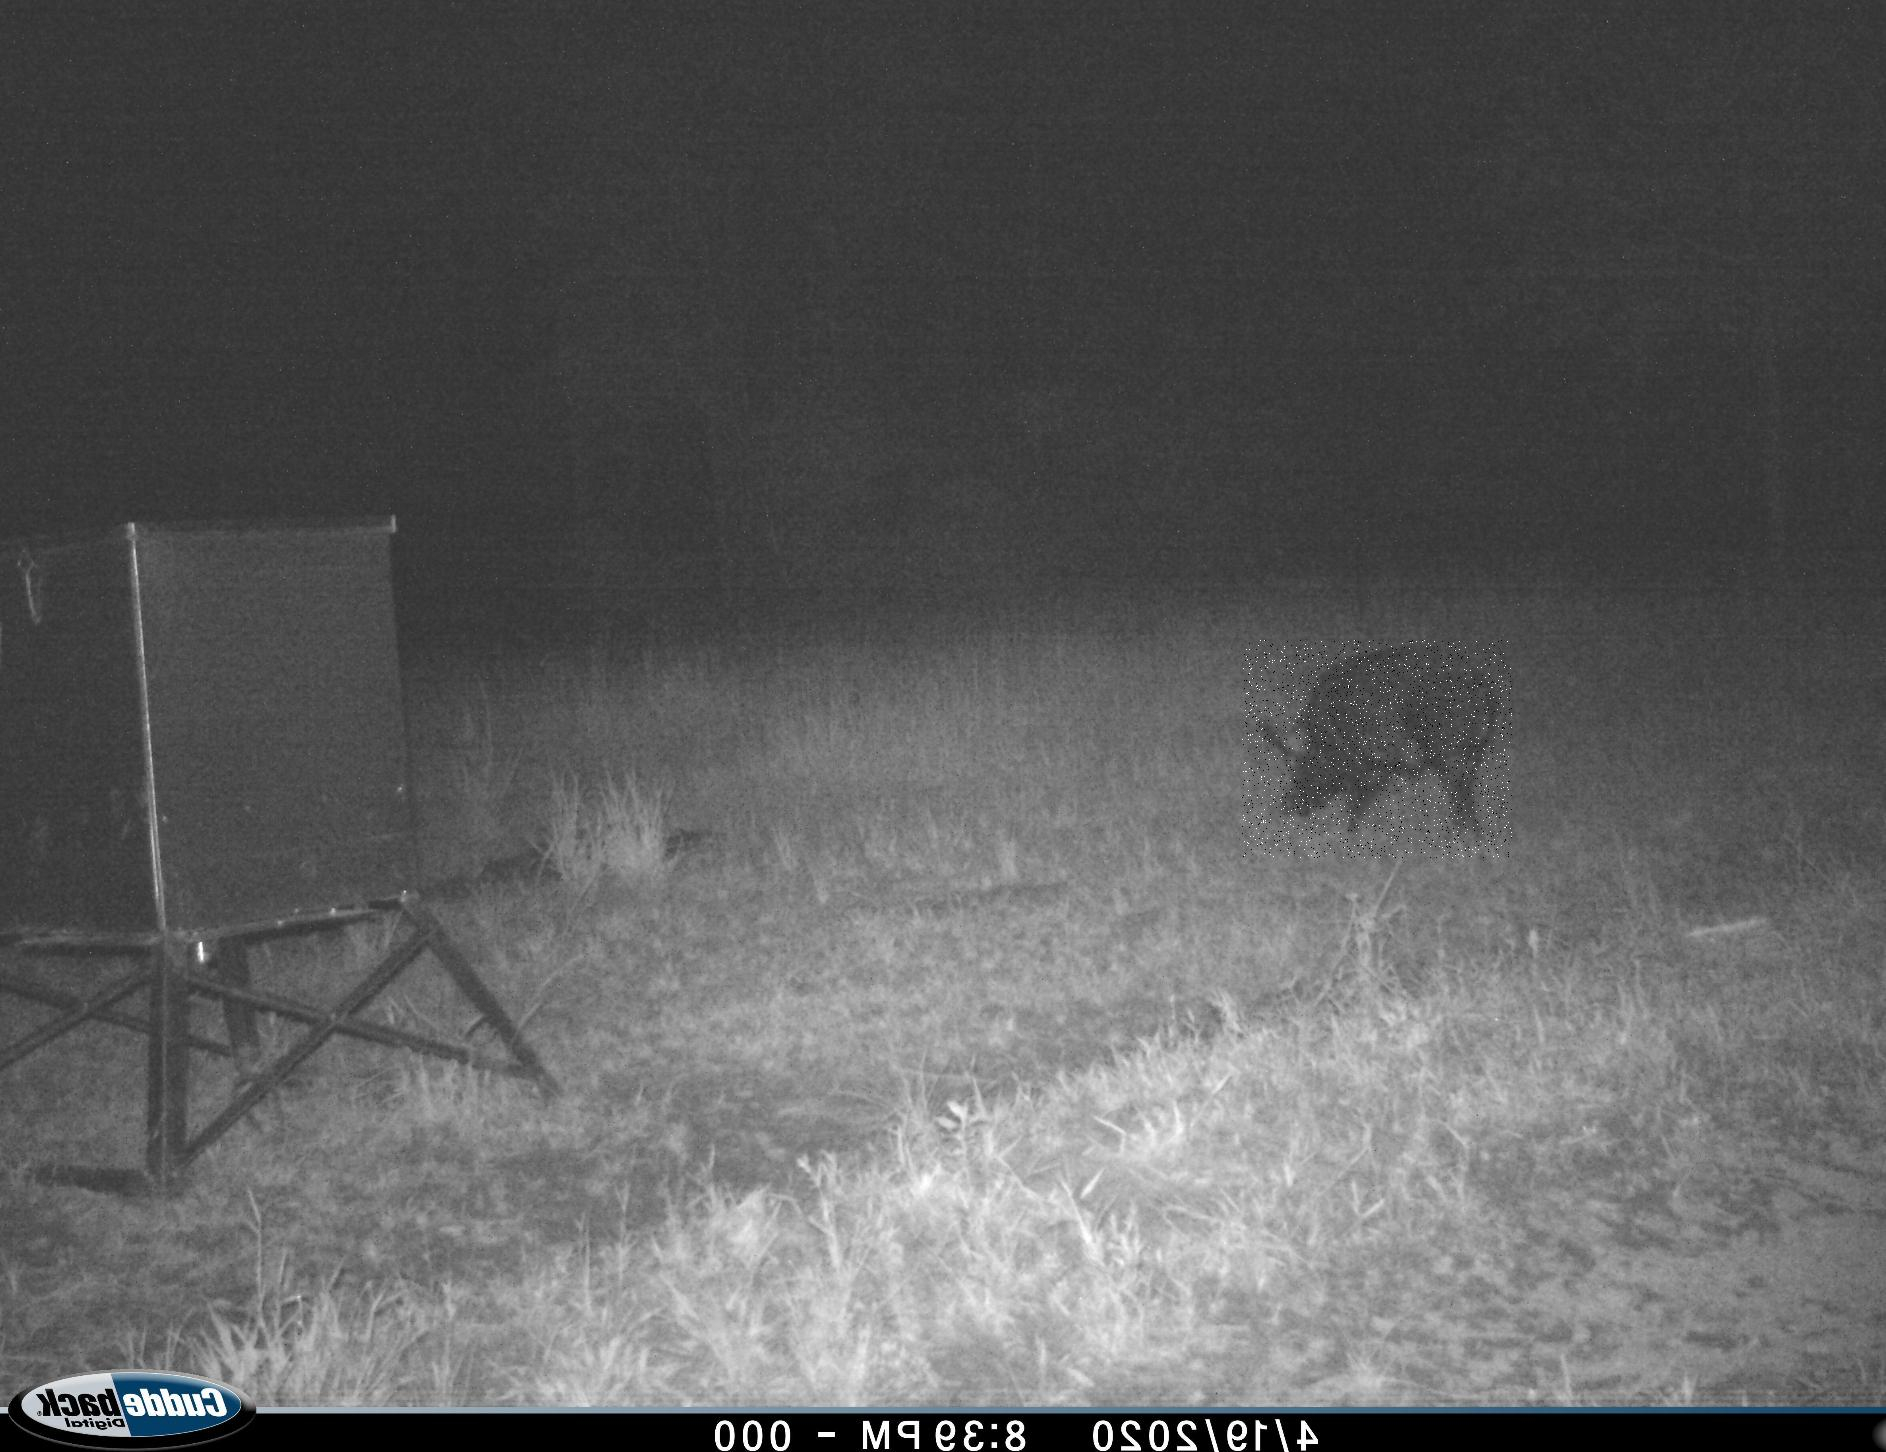Hog: (1243, 639, 1512, 859)
